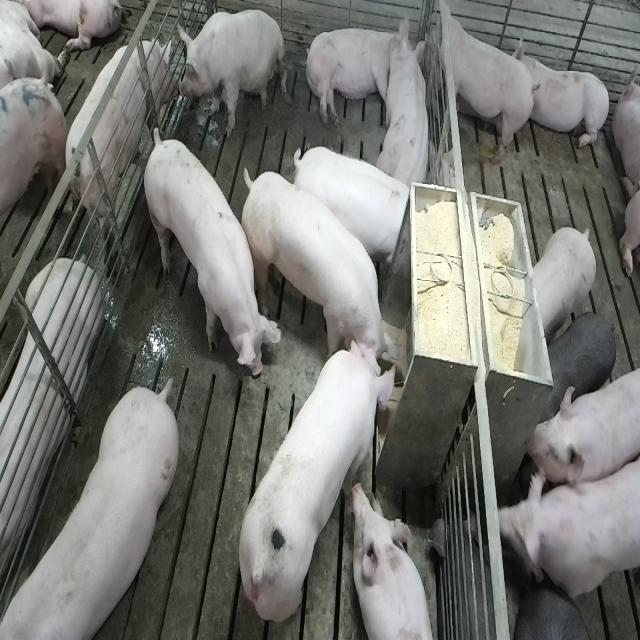Feeding: (236, 332, 400, 624), (243, 166, 410, 385)
Lateral_lying: (303, 14, 416, 128)
Sitting: (176, 7, 285, 138)
Standing: (0, 382, 176, 640), (142, 125, 281, 385), (64, 39, 180, 259), (499, 450, 638, 612), (432, 1, 540, 168), (289, 144, 415, 280), (528, 362, 639, 494), (0, 74, 69, 268), (536, 310, 616, 426), (530, 226, 597, 341), (513, 585, 604, 638)
Sternal_lying: (0, 260, 100, 611), (352, 482, 439, 640), (518, 38, 613, 155), (377, 26, 434, 191)
